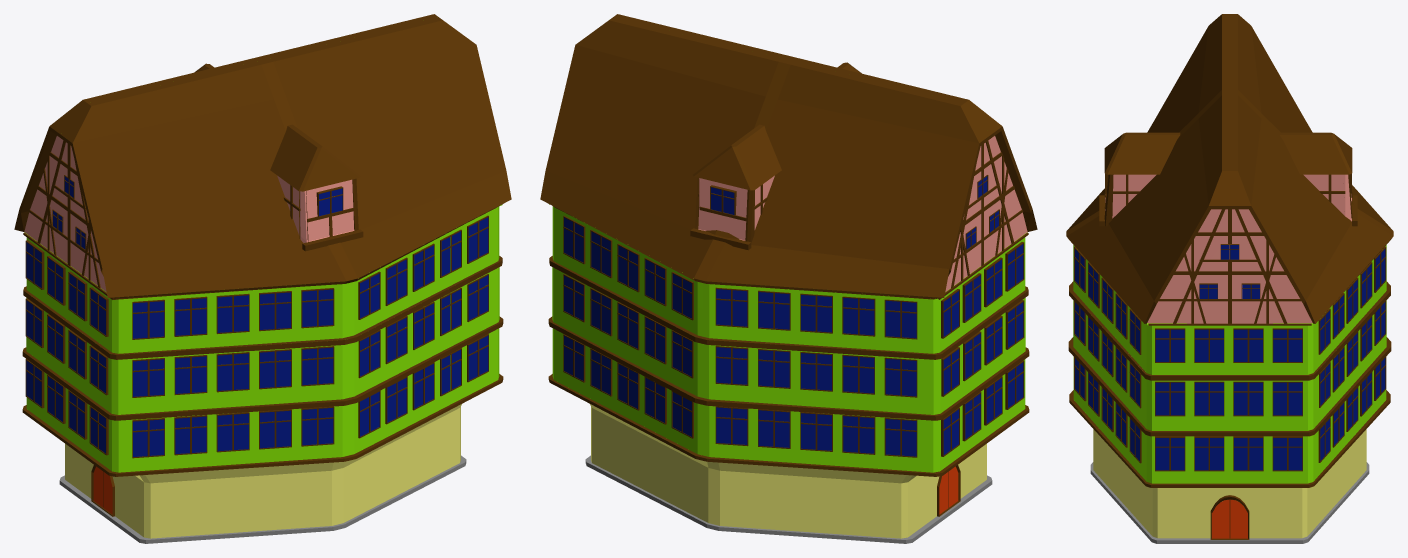
3 renders of one model, left to right at view 1: azimuth 30°, elevation 25°; view 2: azimuth 150°, elevation 25°; view 3: azimuth 270°, elevation 25°, orthographic. The views are drawn at different scales.
Visible parts, largest first — view 1: Cube.053_Cube.004; view 2: Cube.053_Cube.004; view 3: Cube.053_Cube.004.
Boxes of the visible parts, x1,y1,x2,y2 form: Cube.053_Cube.004: [14, 14, 511, 543]; Cube.053_Cube.004: [540, 14, 1037, 543]; Cube.053_Cube.004: [1066, 14, 1393, 543].
Bounding box in the file's own units: 0.2757 × 0.2698 × 0.2113.
8 materials, 8 textured.
